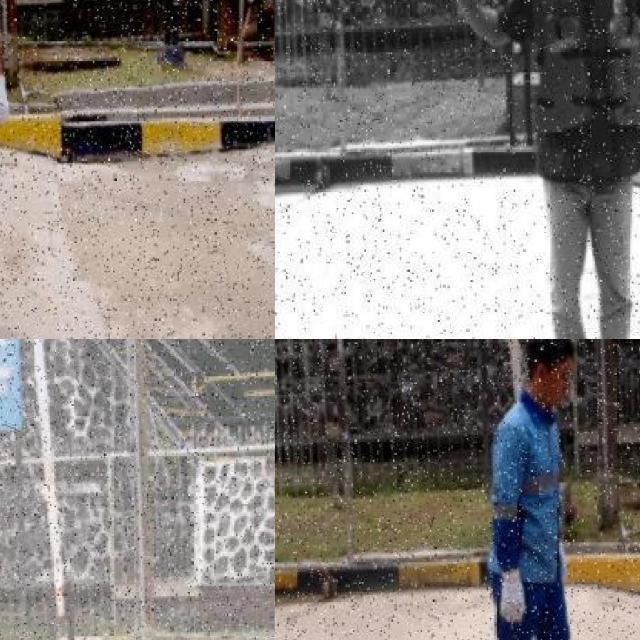apron: (496, 560, 530, 628), (0, 71, 16, 131)
